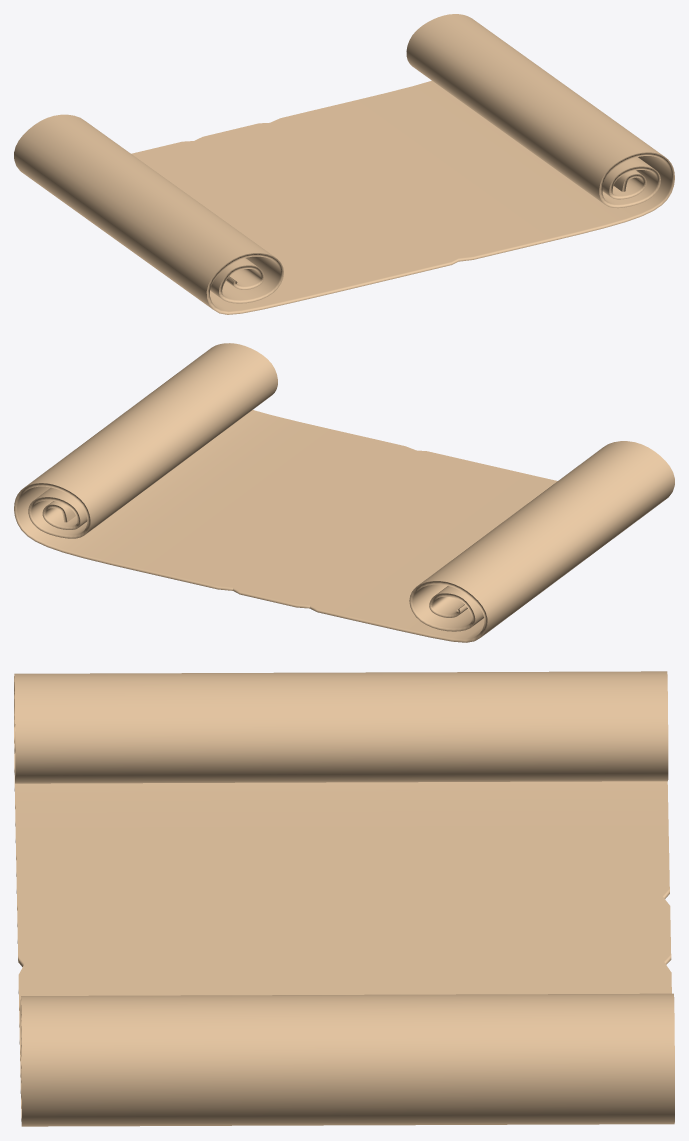
The model's file is Mesh_Parchment.fbx.
3 renders of one model, top to bottom at view 1: azimuth 30°, elevation 25°; view 2: azimuth 150°, elevation 25°; view 3: azimuth 270°, elevation 25°, orthographic. The views are drawn at different scales.
Visible parts, largest first — view 1: Mesh_1; view 2: Mesh_1; view 3: Mesh_1.
Part boxes in pixels (left/top/right/bottom): Mesh_1: left=14, top=14, right=674, bottom=314; Mesh_1: left=14, top=343, right=674, bottom=642; Mesh_1: left=14, top=671, right=674, bottom=1126.
Size of the model in its own units: 96.12 by 12.92 by 67.61.
